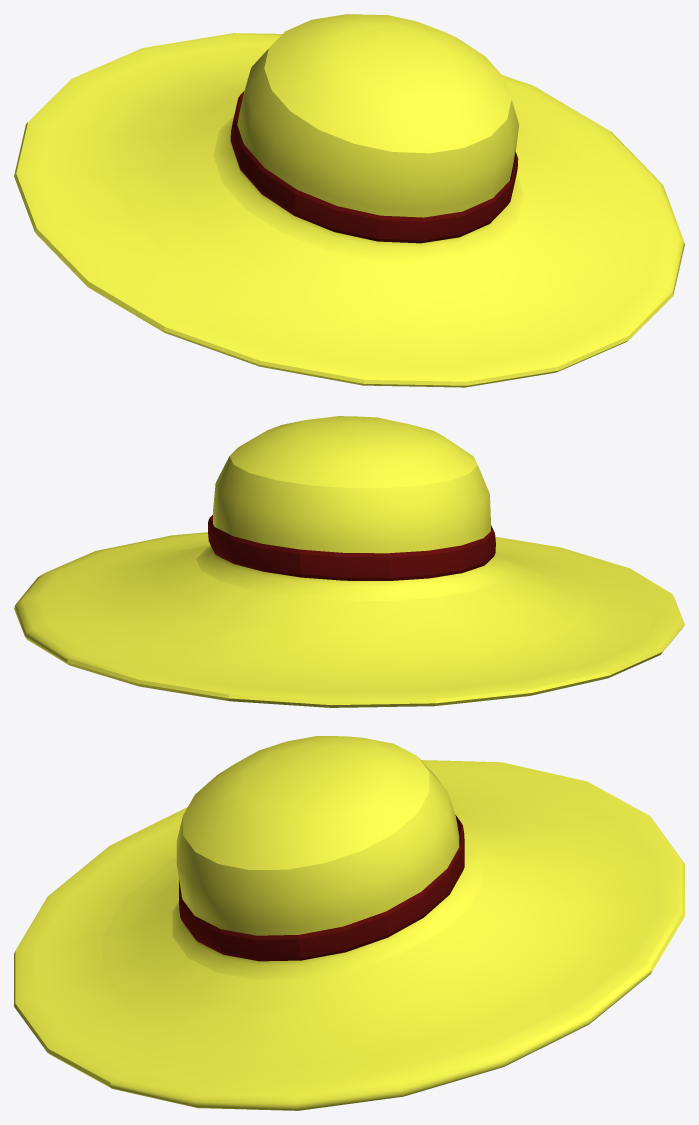
3 renders of one model, top to bottom at view 1: azimuth 30°, elevation 25°; view 2: azimuth 150°, elevation 25°; view 3: azimuth 270°, elevation 25°, orthographic. The views are drawn at different scales.
Visible parts, largest first — view 1: 385, tie_hat; view 2: 385, tie_hat; view 3: 385, tie_hat.
Part boxes in pixels (x1,y1,x2,y2): 385: (14, 14, 684, 387); tie_hat: (230, 91, 518, 243); 385: (14, 416, 684, 707); tie_hat: (208, 515, 495, 580); 385: (14, 736, 684, 1110); tie_hat: (179, 815, 464, 961).
Size of the model in its own units: 26.52 by 26.26 by 10.17.
